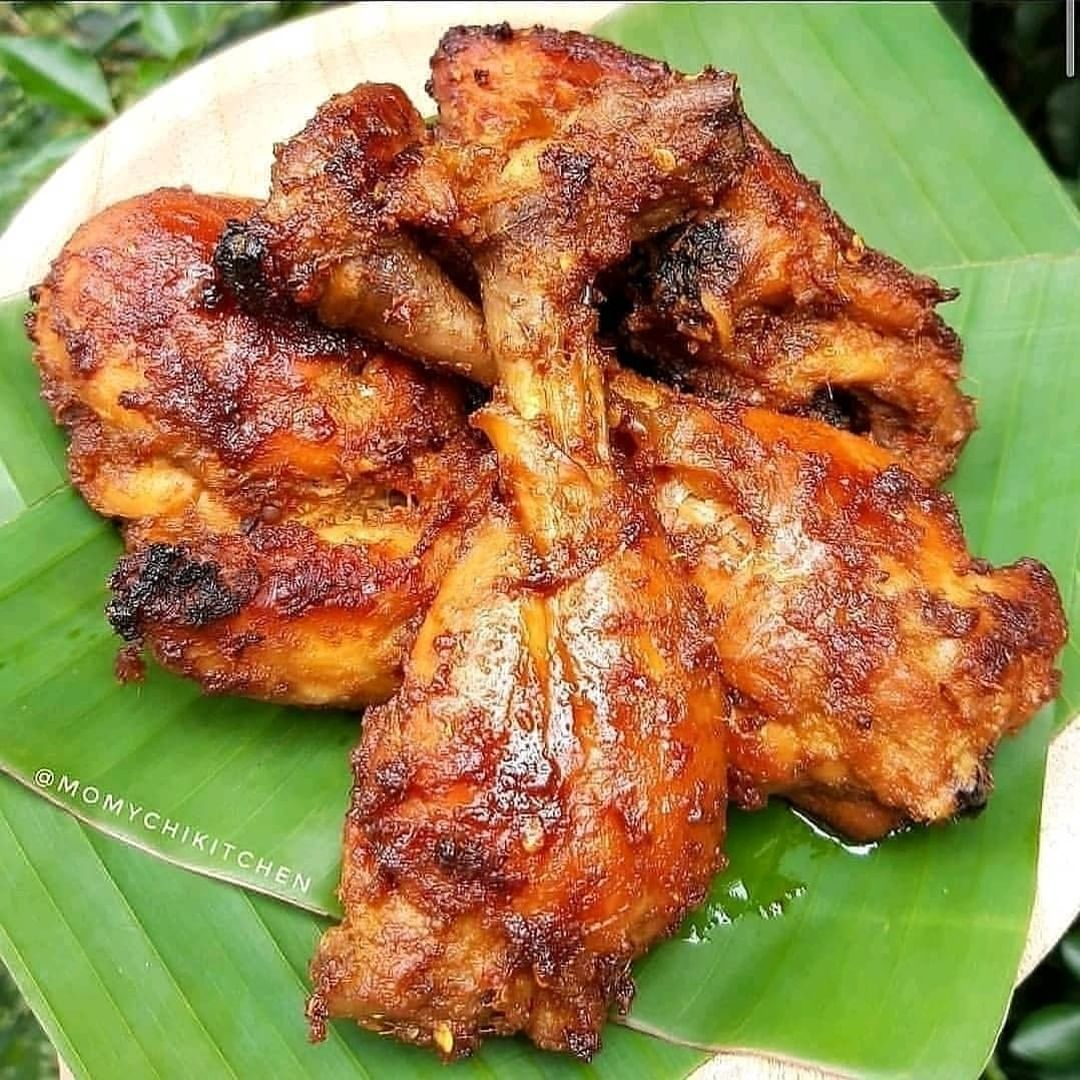Ayam: (271, 149, 751, 1028)
